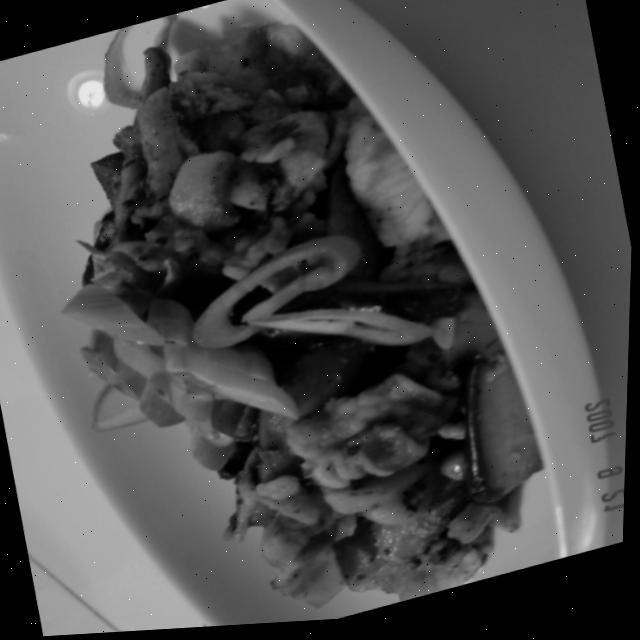鸡蛋料理: (33, 0, 615, 638)
